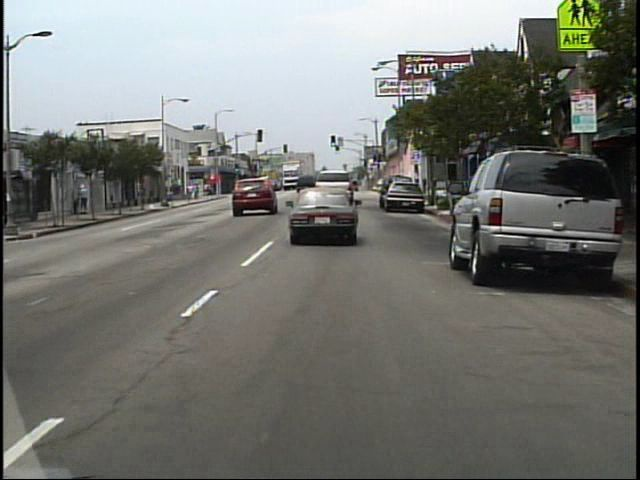person: (80, 184, 93, 214)
